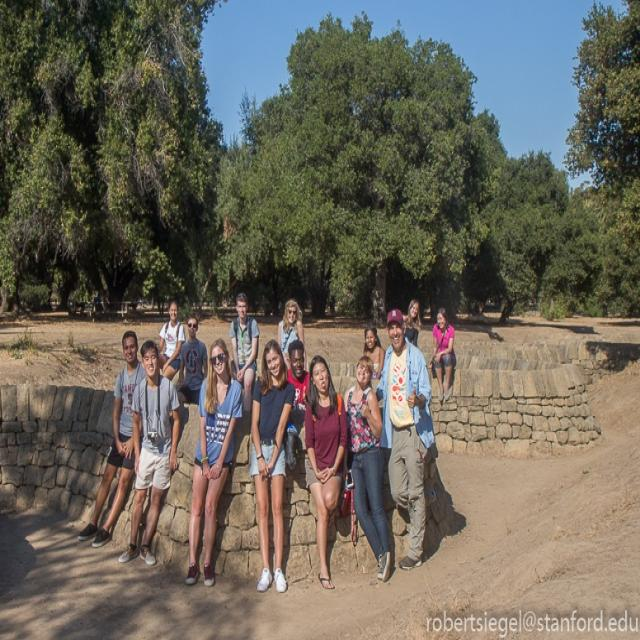body: (374, 307, 436, 572), (77, 328, 147, 548), (117, 337, 183, 567), (184, 336, 243, 590), (341, 353, 395, 582), (248, 337, 296, 593), (303, 353, 349, 592), (228, 291, 262, 438), (176, 313, 208, 405), (68, 296, 168, 325), (428, 304, 457, 402), (154, 297, 187, 381), (359, 324, 387, 401), (276, 298, 305, 372), (283, 339, 312, 410), (403, 298, 423, 348), (466, 295, 484, 318), (268, 300, 285, 323), (217, 297, 234, 313)
